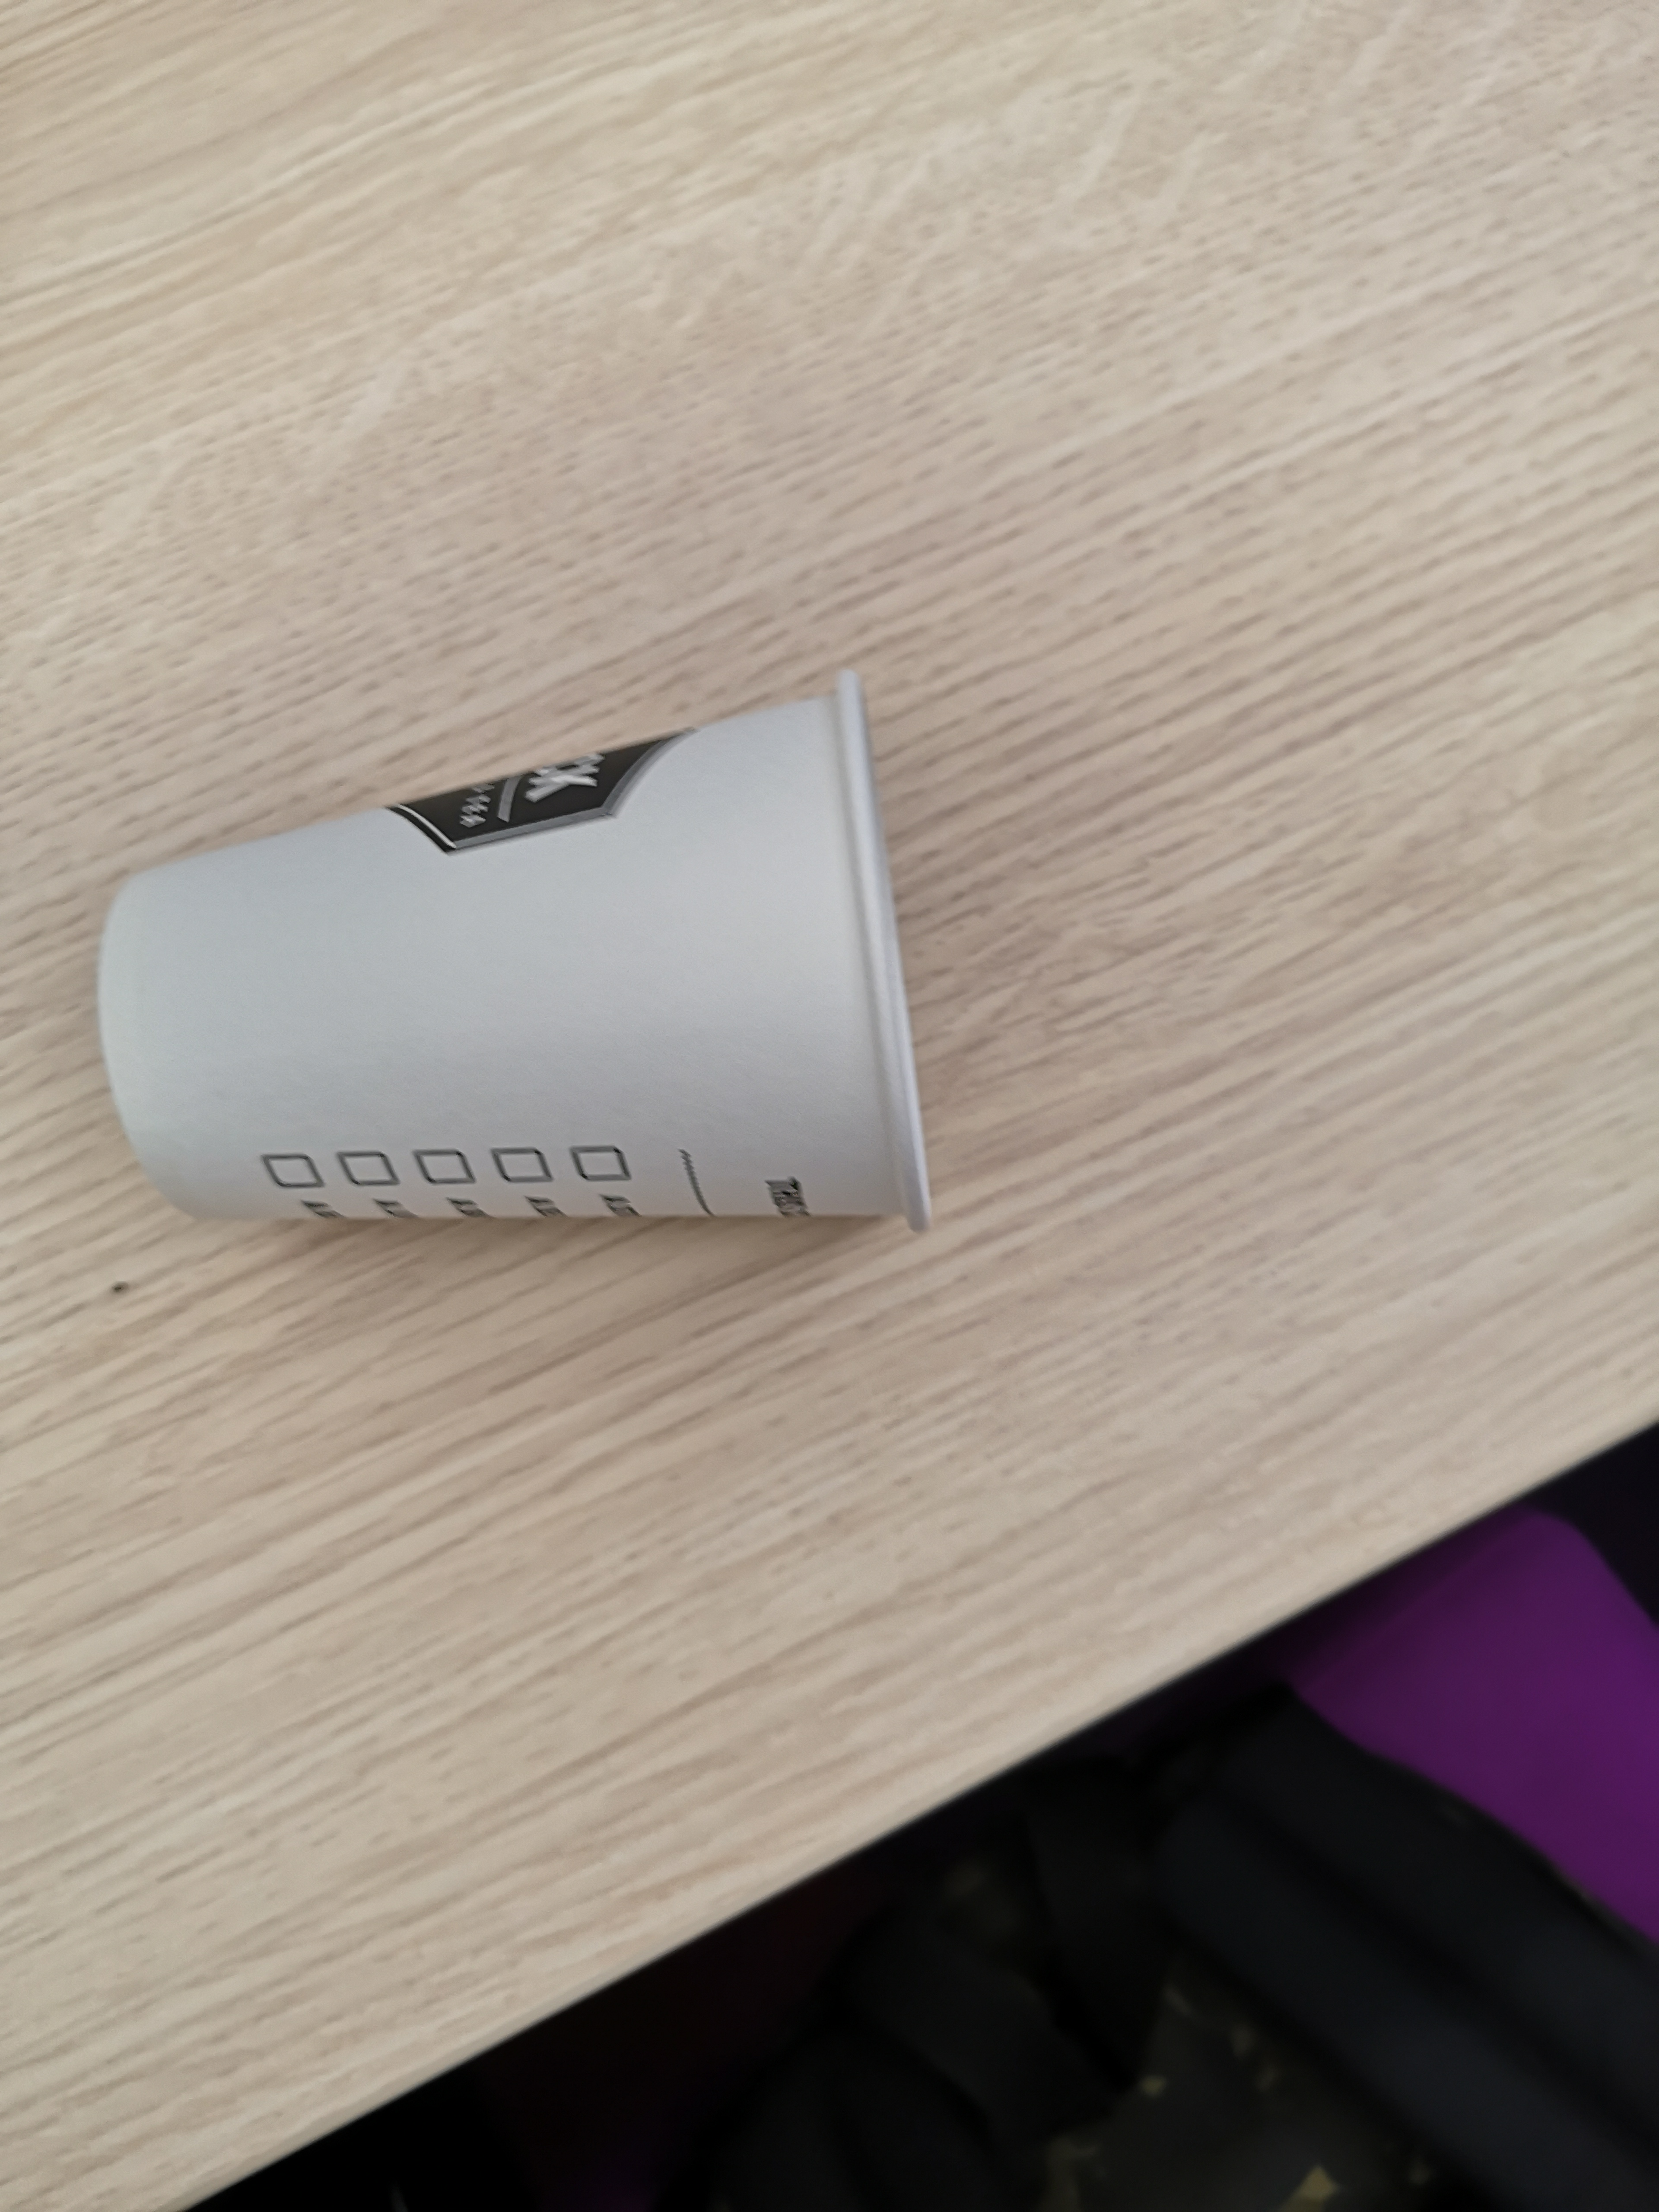cup: (68, 639, 981, 1299)
